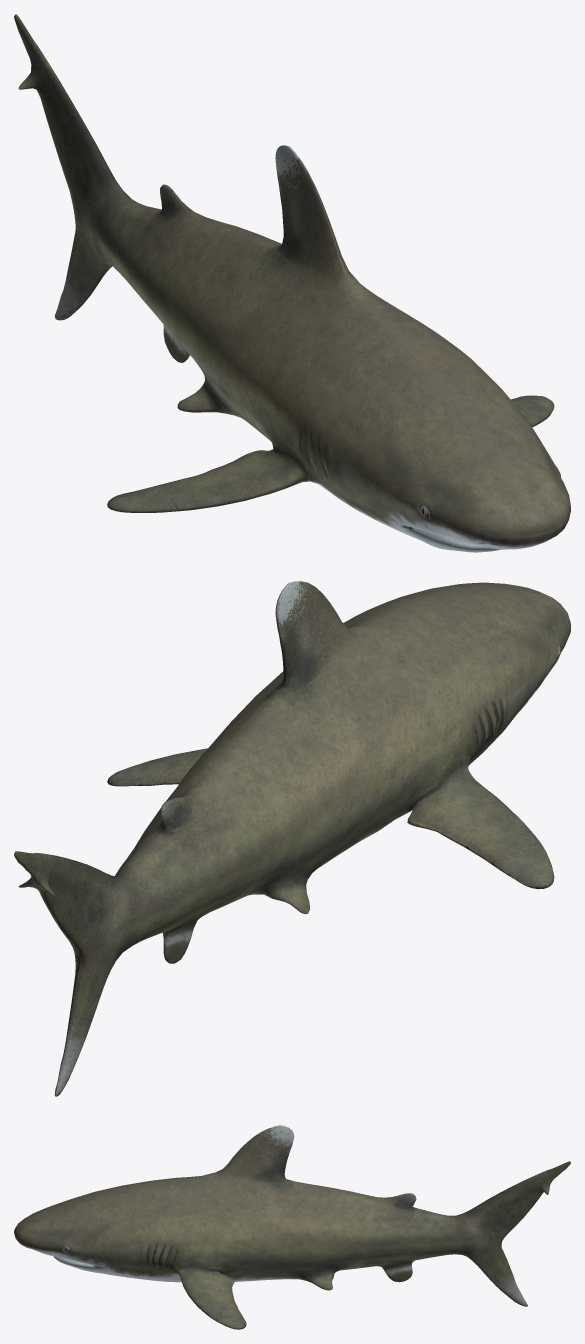
Rendered from shark.glb.
The picture shows the model from 3 angles, top to bottom: view 1: azimuth 30°, elevation 25°; view 2: azimuth 150°, elevation 25°; view 3: azimuth 270°, elevation 25°; orthographic projection. The views are drawn at different scales.
Visible parts, largest first — view 1: node_id30; view 2: node_id30; view 3: node_id30.
Part boxes in pixels (x1,y1,x2,y2): node_id30: (14, 14, 570, 552); node_id30: (14, 581, 570, 1096); node_id30: (14, 1125, 570, 1329).
Bounding box in the file's own units: 0.512 × 0.3804 × 1.06.
Materials: 1 (1 with a texture image).
